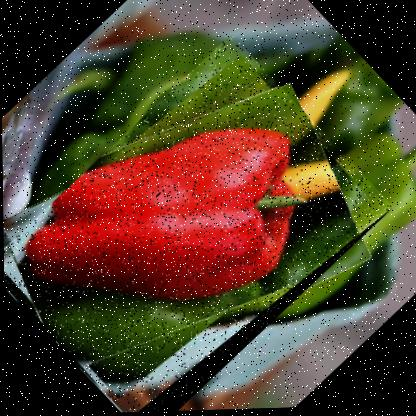capsicum: (0, 29, 395, 415)
